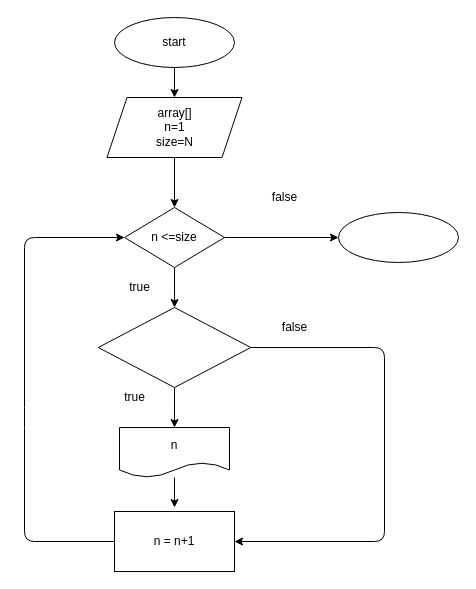
Some shapes in this 476 by 589 pixel diagram are drawn without their labels. The centre of each missing label's shape, as x and y in pixels:
"end" belongs at (x=398, y=237).
"n / 2 = челое число" belongs at (x=174, y=347).
